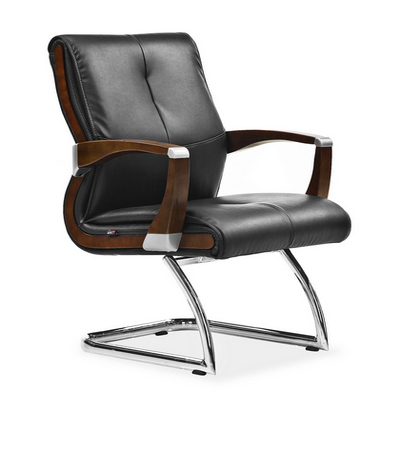chairs: (42, 25, 354, 376)
